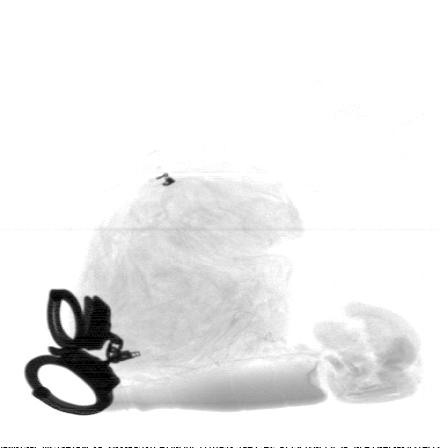HandCuffs: (23, 288, 141, 419)
